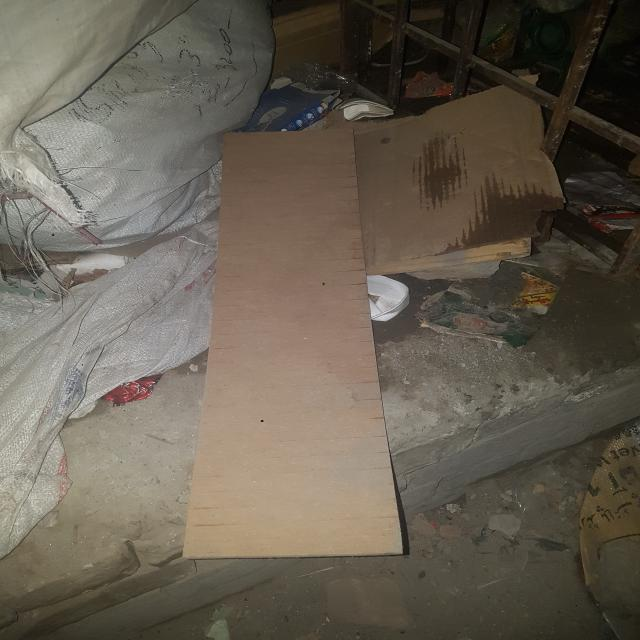electronic: (185, 127, 389, 609), (352, 80, 566, 278)
